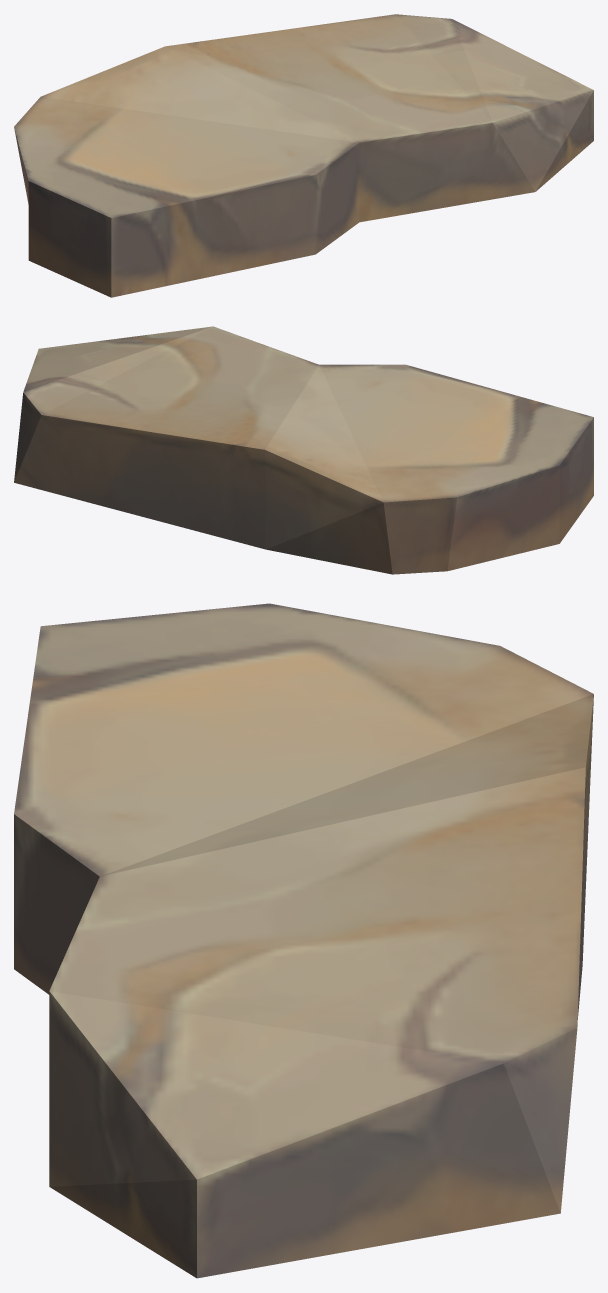
The model's file is map_7004_tz_01.FBX.
3 views of the same model, one above another, from view 1: azimuth 30°, elevation 25°; view 2: azimuth 150°, elevation 25°; view 3: azimuth 270°, elevation 25° (orthographic). The views are drawn at different scales.
Parts seen in each view (by area): view 1: map_7004_tz_01; view 2: map_7004_tz_01; view 3: map_7004_tz_01.
Part boxes in pixels (x1,y1,x2,y2): map_7004_tz_01: (14,14,593,297); map_7004_tz_01: (14,326,593,574); map_7004_tz_01: (14,603,593,1278).
Size of the model in its own units: 5.98 by 1.06 by 2.82.
